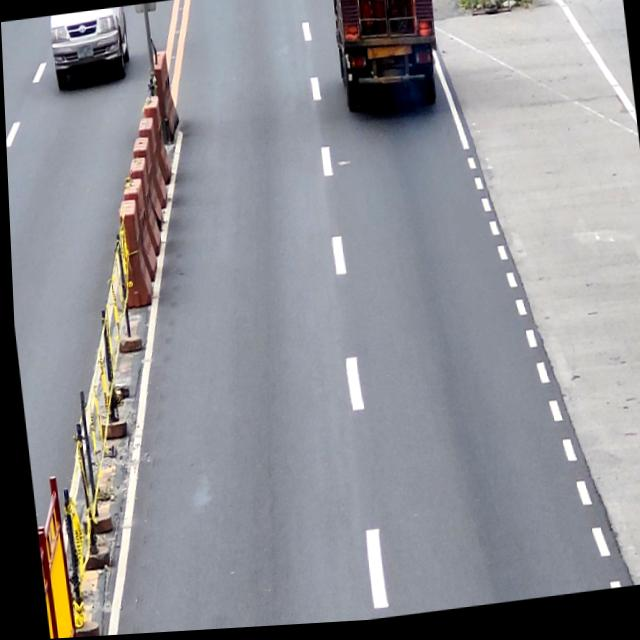Truck: (328, 0, 445, 119)
